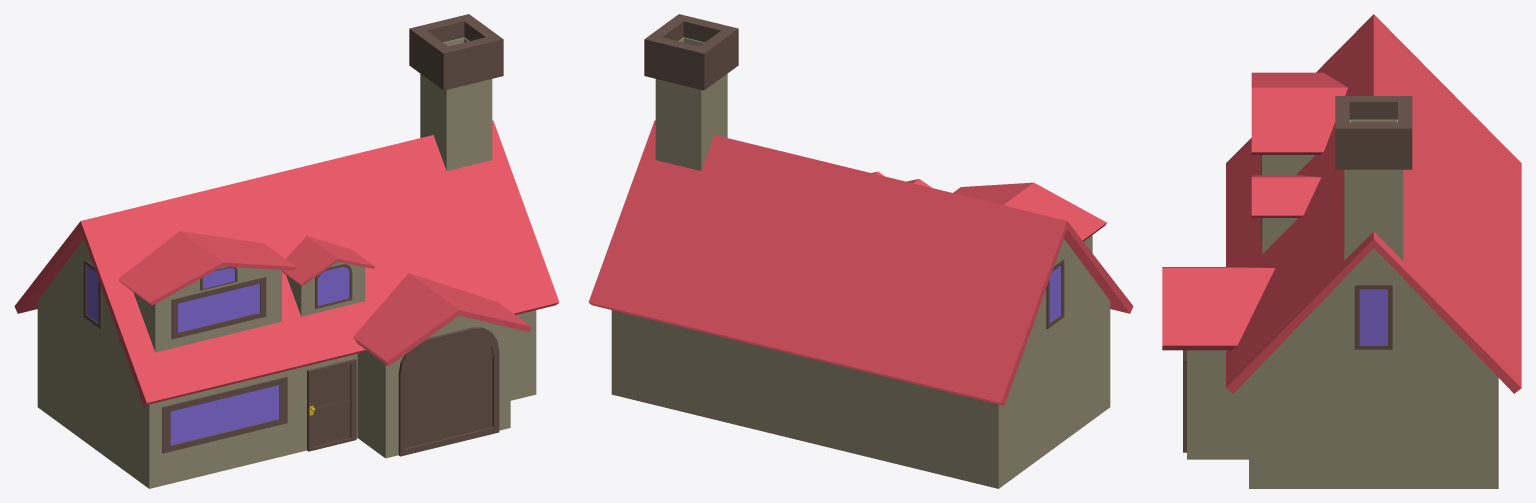
The model's file is CASA.fbx.
3 views of the same model, side by side, from view 1: azimuth 30°, elevation 25°; view 2: azimuth 150°, elevation 25°; view 3: azimuth 270°, elevation 25° (orthographic). The views are drawn at different scales.
Parts seen in each view (by area): view 1: WINDOWS.006; view 2: WINDOWS.006; view 3: WINDOWS.006.
Boxes of the visible parts, bbox=[...] form: WINDOWS.006: bbox=[14, 14, 559, 488]; WINDOWS.006: bbox=[588, 14, 1133, 488]; WINDOWS.006: bbox=[1162, 14, 1521, 488].
Size of the model in its own units: 974 by 734 by 657.
